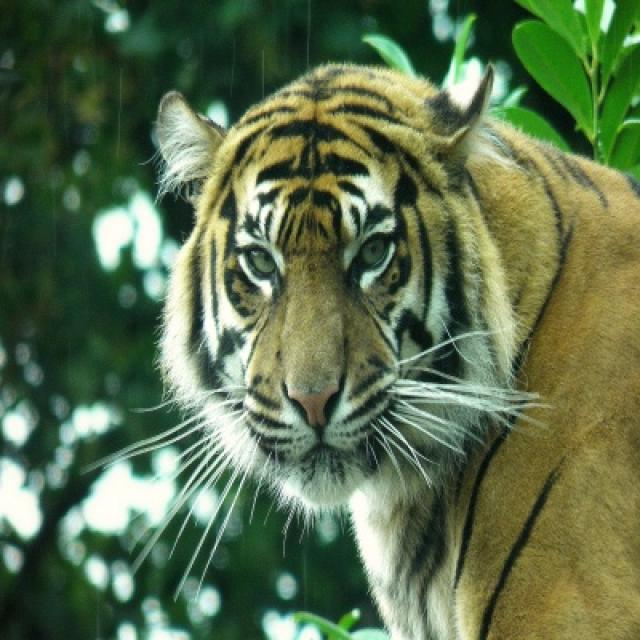Tiger: (151, 63, 638, 638)
